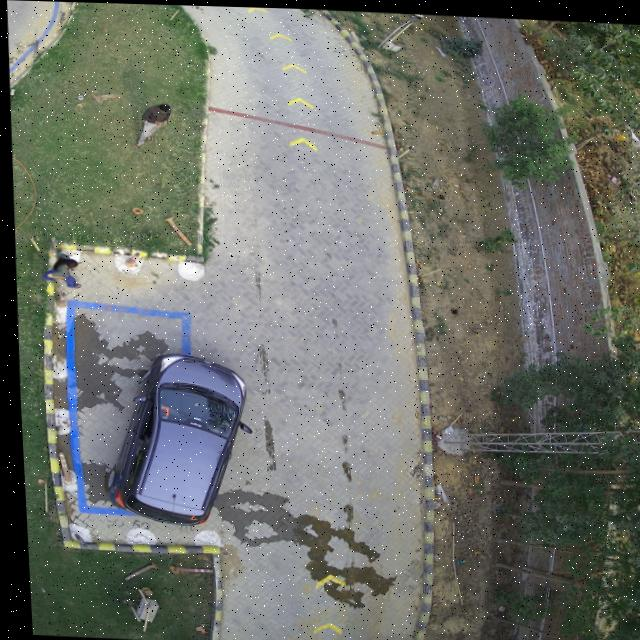car: (102, 352, 239, 523)
